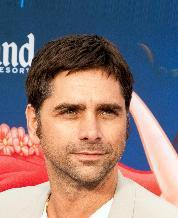face: (58, 101, 121, 162)
